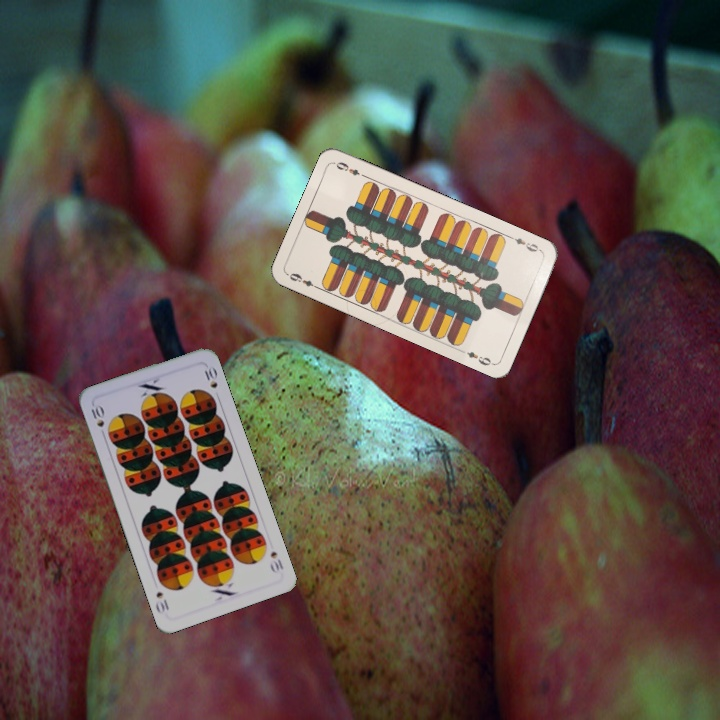E9: (506, 232, 544, 255), (285, 269, 322, 292)
S10: (87, 400, 108, 440), (266, 547, 286, 576)
